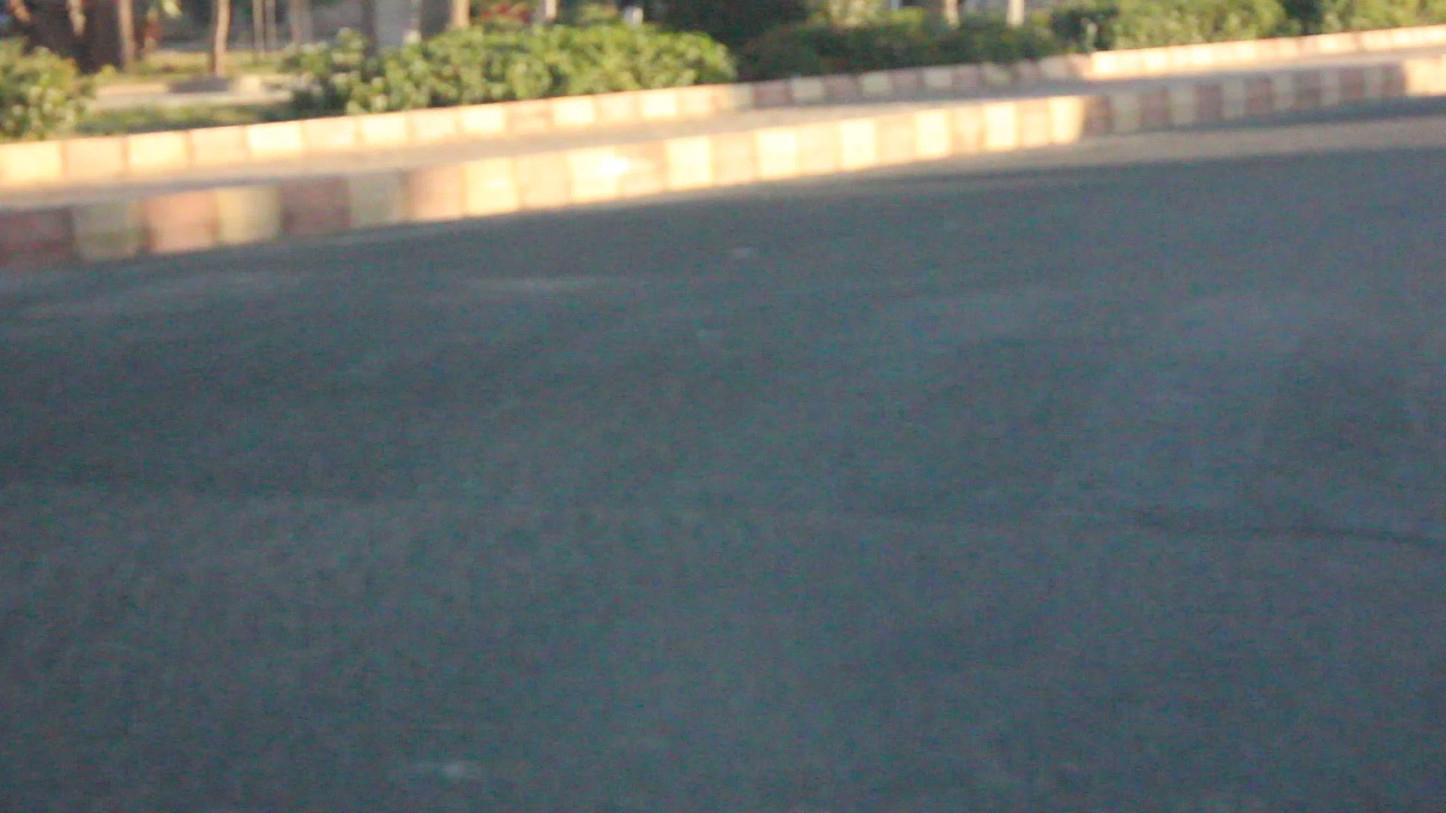Bump: (4, 263, 1446, 540)
